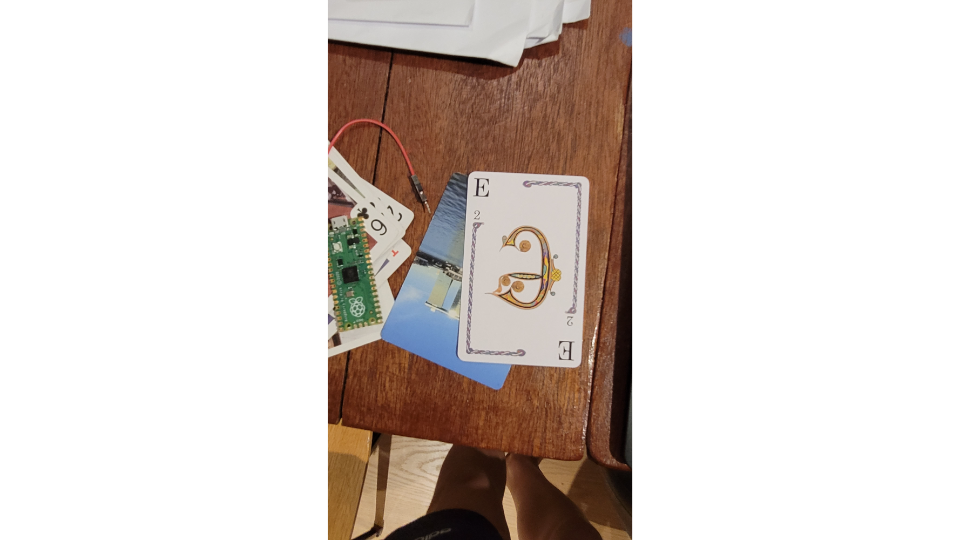E: (455, 169, 593, 373)
